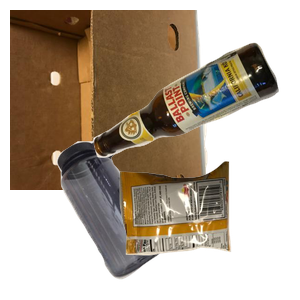cardboard: (10, 10, 211, 190)
glass: (91, 40, 300, 190)
plastic: (54, 136, 209, 300)
trash: (117, 159, 300, 300)
